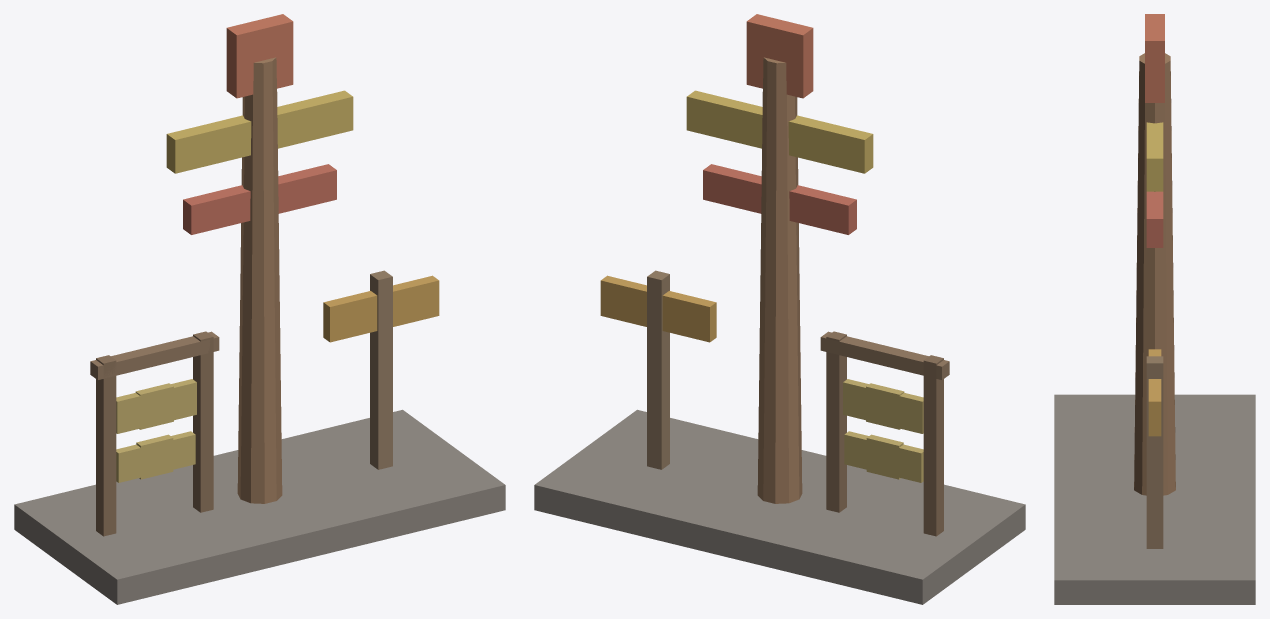
Rendered from prop_31_lang_cu_lan_k_ho_wooden_totem_gong_stand_and_jeep_ford_crossing_kit.glb.
3 renders of one model, left to right at view 1: azimuth 30°, elevation 25°; view 2: azimuth 150°, elevation 25°; view 3: azimuth 270°, elevation 25°, orthographic. The views are drawn at different scales.
Parts seen in each view (by area): view 1: prop_31; view 2: prop_31; view 3: prop_31.
Boxes of the visible parts, x1=… form: prop_31: x1=14, y1=14, x2=505, y2=604; prop_31: x1=534, y1=14, x2=1025, y2=604; prop_31: x1=1054, y1=14, x2=1255, y2=604.
Size of the model in its own units: 4.8 by 5.85 by 2.2.
